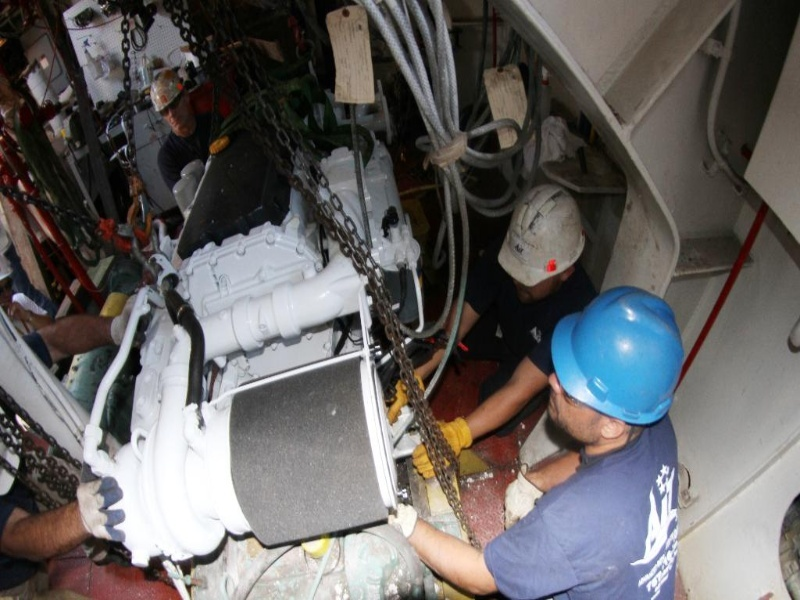baret: (549, 292, 686, 426), (499, 184, 589, 288)
